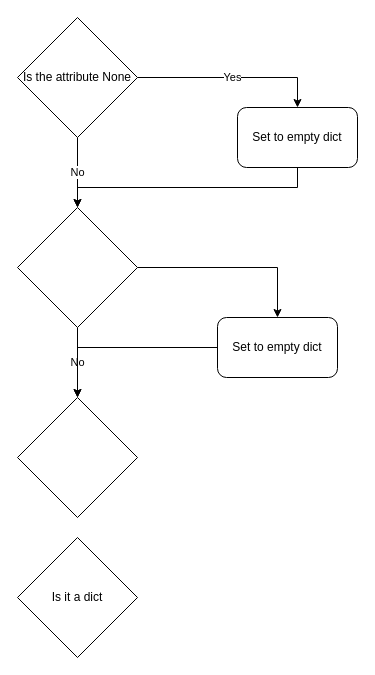
This 375x675 diagram has some shape labels left out. The centre of each missing label's shape, as x and y in pixels:
Is input value a pof object: pixel 77 457
Is the input value None: pixel 77 267
